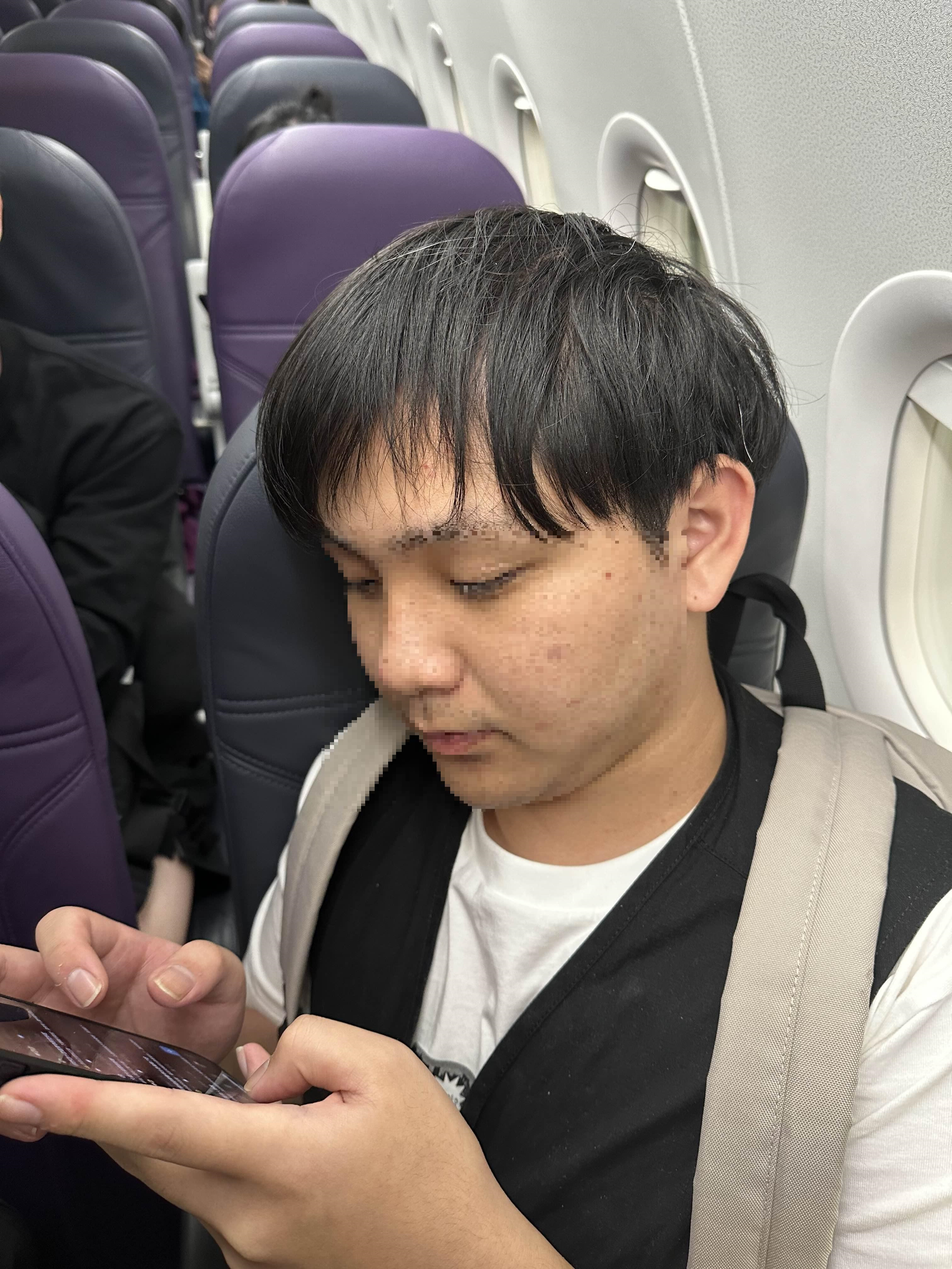NoHelmet: (255, 211, 803, 819)
